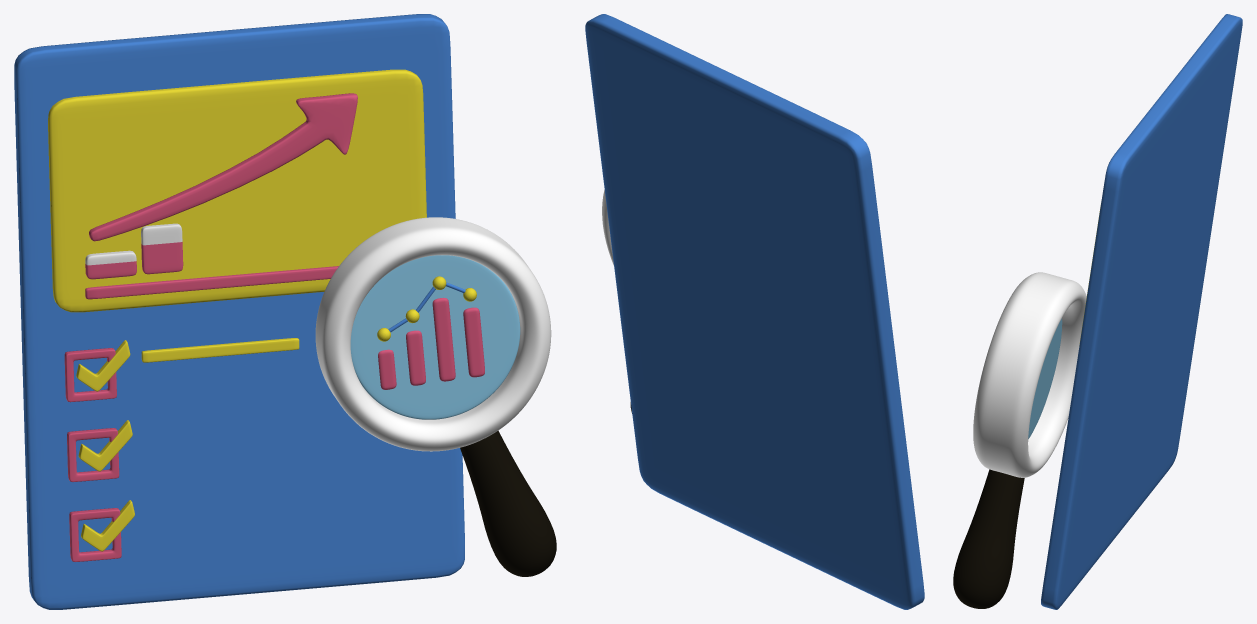
Rendered from market-validation-3d-animated-icon-1291745030332.glb.
3 renders of one model, left to right at view 1: azimuth 30°, elevation 25°; view 2: azimuth 150°, elevation 25°; view 3: azimuth 270°, elevation 25°, orthographic. The views are drawn at different scales.
Visible parts, largest first — view 1: Plane.055, Plane.053, Cylinder.010, Cylinder.011, Cylinder.012, Plane.054, Plane.001, Plane.052, Plane.017, Plane.015, Plane.016, Plane.009 (+2 smaller); view 2: Plane.055; view 3: Plane.055, Cylinder.010, Cylinder.012, Cylinder.011.
Part boxes in pixels (<box>): Plane.055: <box>14,14,464,609</box>; Plane.053: <box>48,69,426,312</box>; Cylinder.010: <box>315,217,551,451</box>; Cylinder.011: <box>350,255,520,419</box>; Cylinder.012: <box>460,430,556,576</box>; Plane.054: <box>89,93,357,241</box>; Plane.001: <box>378,297,484,389</box>; Plane.052: <box>85,266,338,299</box>; Plane.017: <box>64,340,130,402</box>; Plane.015: <box>69,500,134,561</box>; Plane.016: <box>67,420,132,481</box>; Plane.009: <box>141,338,299,362</box>; Plane.055: <box>585,14,924,609</box>; Plane.055: <box>1041,14,1242,609</box>; Cylinder.010: <box>973,272,1086,477</box>; Cylinder.012: <box>953,469,1024,608</box>; Cylinder.011: <box>1028,318,1062,438</box>.
Size of what is drawn, in the model's own units: 7.14 by 8.45 by 4.8.
